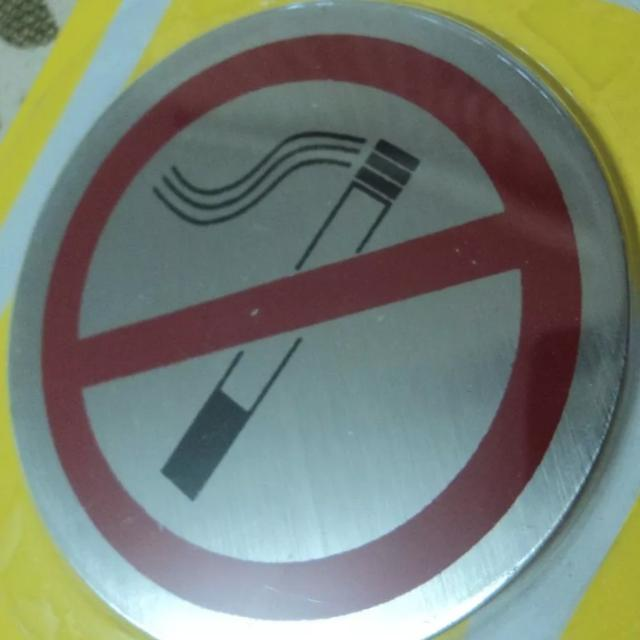cam hut thuoc: (4, 0, 639, 639)
